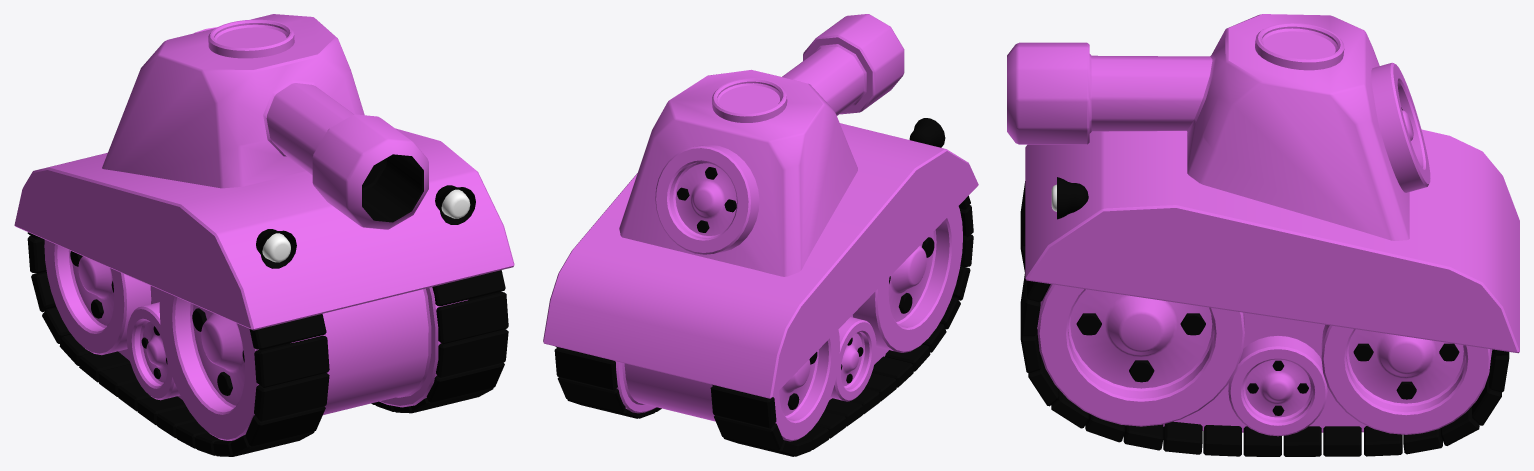
Rendered from Design.fbx.
3 renders of one model, left to right at view 1: azimuth 30°, elevation 25°; view 2: azimuth 150°, elevation 25°; view 3: azimuth 270°, elevation 25°, orthographic. The views are drawn at different scales.
Visible parts, largest first — view 1: Diseño; view 2: Diseño; view 3: Diseño.
Part boxes in pixels (left/top/right/bottom): Diseño: left=14, top=14, right=514, bottom=456; Diseño: left=543, top=14, right=978, bottom=456; Diseño: left=1007, top=14, right=1519, bottom=456.
Size of the model in its own units: 147 by 185 by 240.
